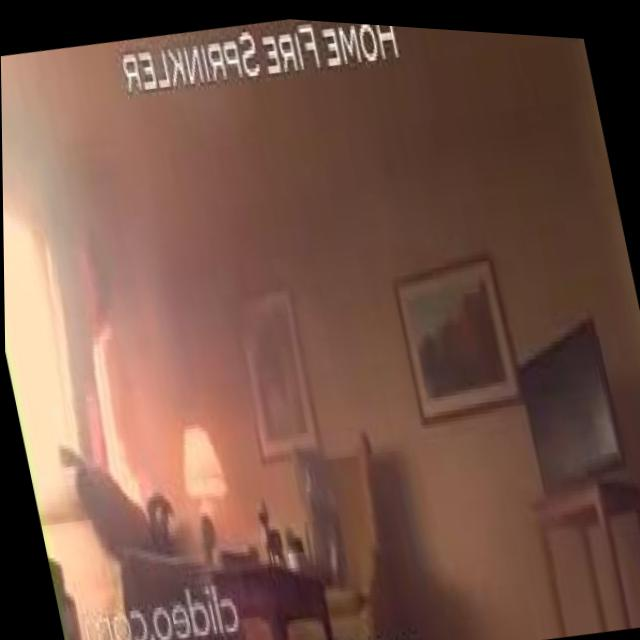fire: (60, 239, 161, 517)
